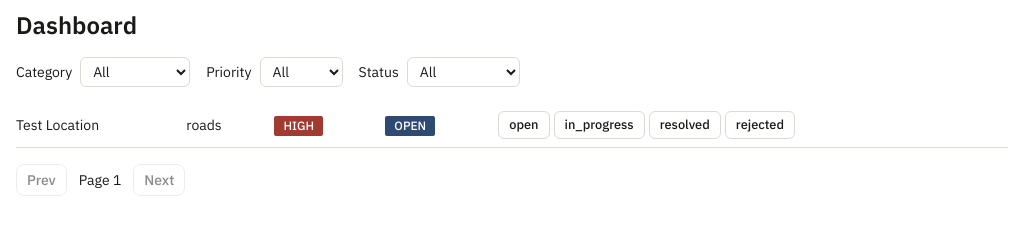
Test: Dashboard view › renders a 409 next to the acted-on row, leaving its displayed status unchanged
Expected: the cell with test id "status" reads "open", 394,118 -> 426,132
Click the button "resolved".
click(685, 125)  # box 649,111 -> 721,139
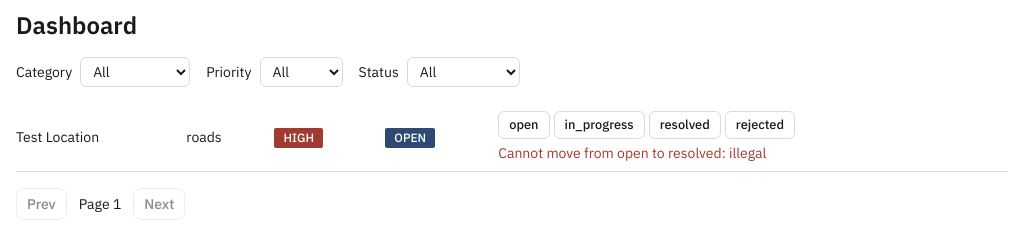
Expected: the cell with test id "status" reads "open", 394,130 -> 426,144
Expected: the text "Cannot move from open to resolved: illegal" is shown, 498,144 -> 766,162
